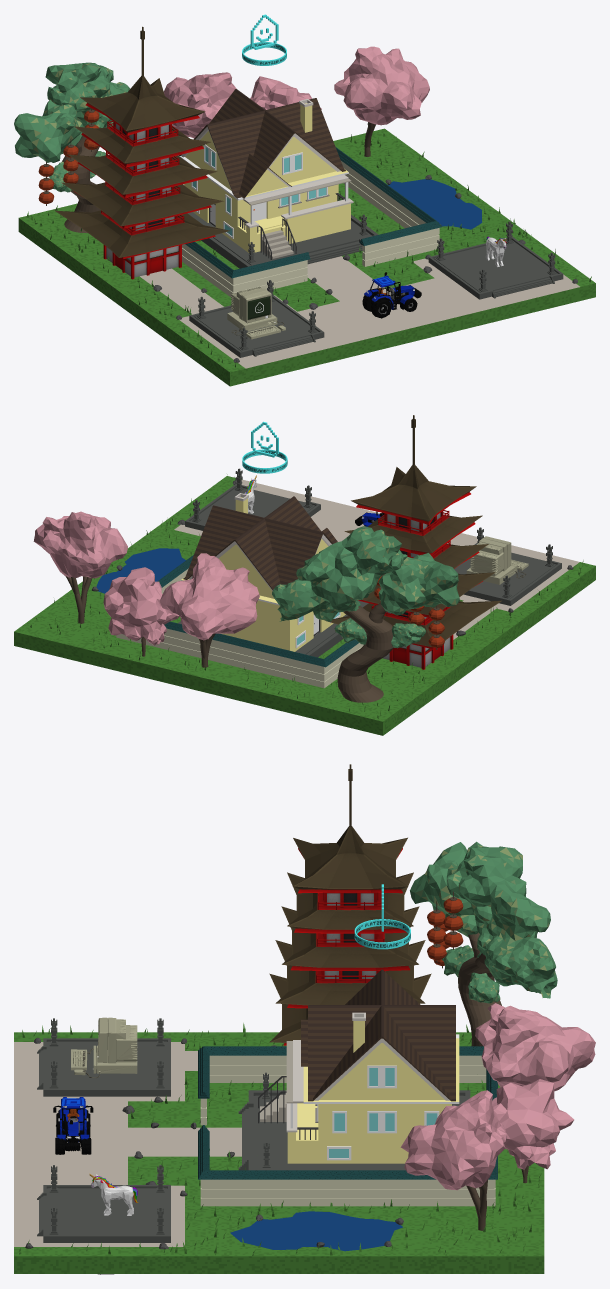
The picture shows the model from 3 angles, top to bottom: view 1: azimuth 30°, elevation 25°; view 2: azimuth 150°, elevation 25°; view 3: azimuth 270°, elevation 25°; orthographic projection. The views are drawn at different scales.
Parts seen in each view (by area): view 1: Cube.005, Cube.1555, OBJRANDOM_RETRO_PC, VEHICLES_TRACTOR, TYPE_PREMIUM; view 2: Cube.005, Cube.1555, OBJRANDOM_RETRO_PC, TYPE_PREMIUM; view 3: Cube.005, Cube.1555, OBJRANDOM_RETRO_PC, VEHICLES_TRACTOR, TYPE_PREMIUM, ANIMAL_UNICORNIO.
Part boxes in pixels (x1=…): Cube.005: x1=14, y1=26, x2=595, y2=386; Cube.1555: x1=178, y1=89, x2=353, y2=259; OBJRANDOM_RETRO_PC: x1=227, y1=286, x2=285, y2=339; VEHICLES_TRACTOR: x1=362, y1=272, x2=421, y2=318; TYPE_PREMIUM: x1=242, y1=14, x2=286, y2=65; Cube.005: x1=14, y1=415, x2=595, y2=735; Cube.1555: x1=181, y1=493, x2=345, y2=651; OBJRANDOM_RETRO_PC: x1=466, y1=536, x2=528, y2=584; TYPE_PREMIUM: x1=242, y1=421, x2=287, y2=473; Cube.005: x1=14, y1=764, x2=595, y2=1273; Cube.1555: x1=258, y1=969, x2=459, y2=1163; OBJRANDOM_RETRO_PC: x1=71, y1=1017, x2=137, y2=1078; VEHICLES_TRACTOR: x1=53, y1=1097, x2=93, y2=1154; TYPE_PREMIUM: x1=354, y1=884, x2=410, y2=949; ANIMAL_UNICORNIO: x1=89, y1=1173, x2=137, y2=1215.
Bounding box in the file's own units: 4528 × 2663 × 4389.
49 materials, 6 textured.
